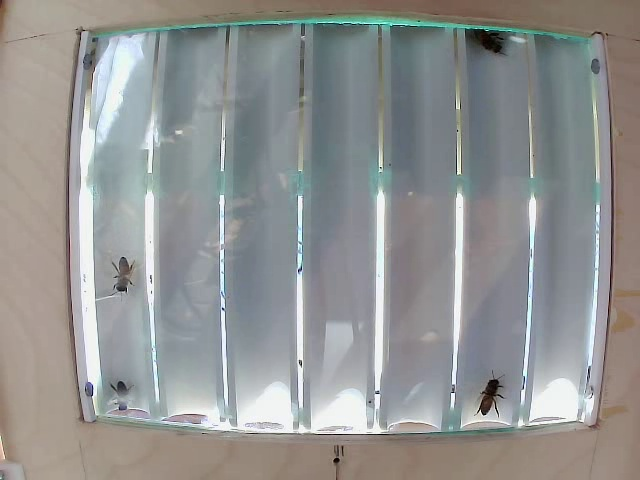bee: (468, 370, 507, 414), (108, 267, 142, 299)
